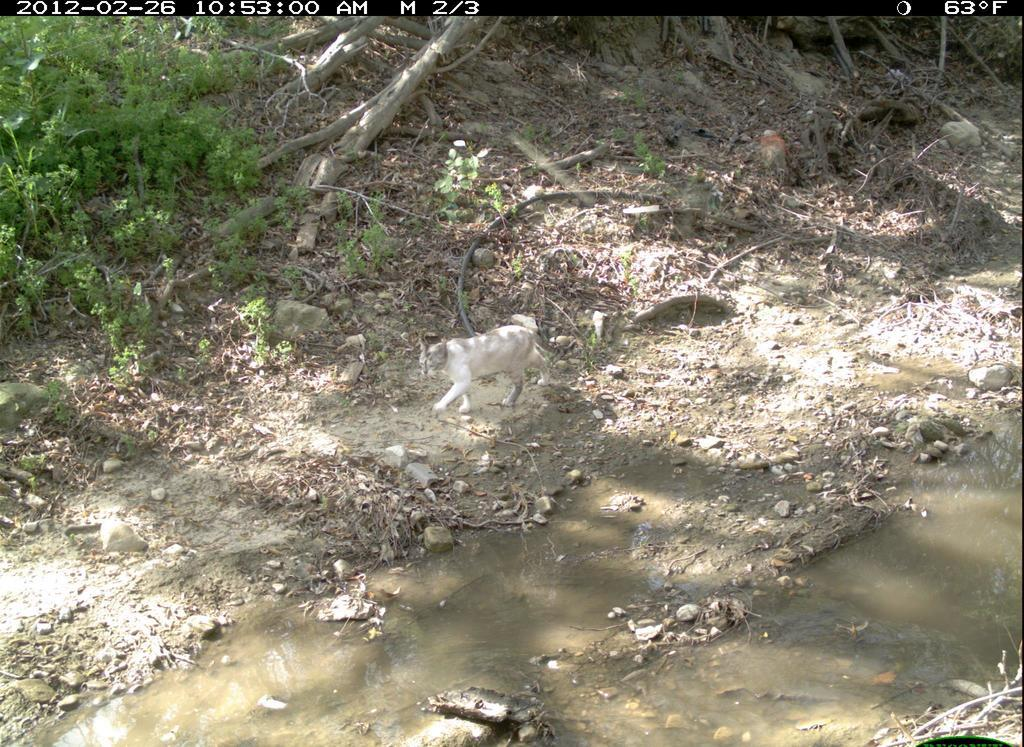cat: (414, 318, 570, 432)
